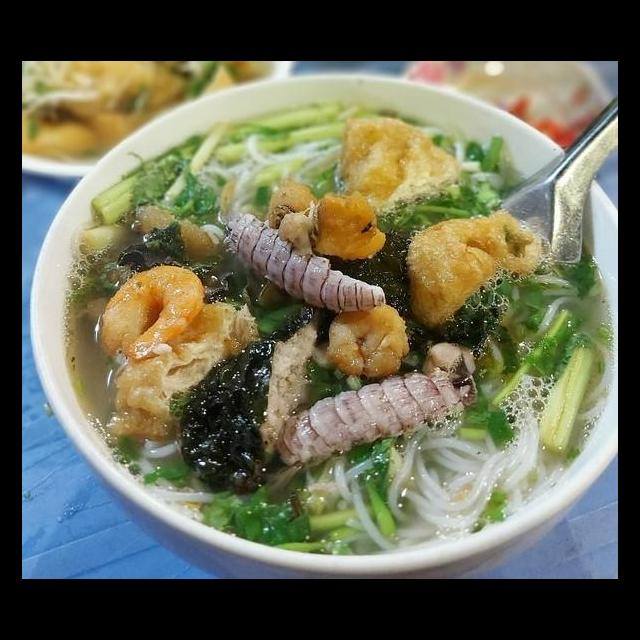bun: (325, 371, 549, 559), (128, 432, 223, 528)
ca: (259, 179, 393, 266)
tom: (94, 262, 209, 363), (325, 300, 414, 383)
tom tit: (275, 363, 486, 476), (210, 205, 392, 321)
